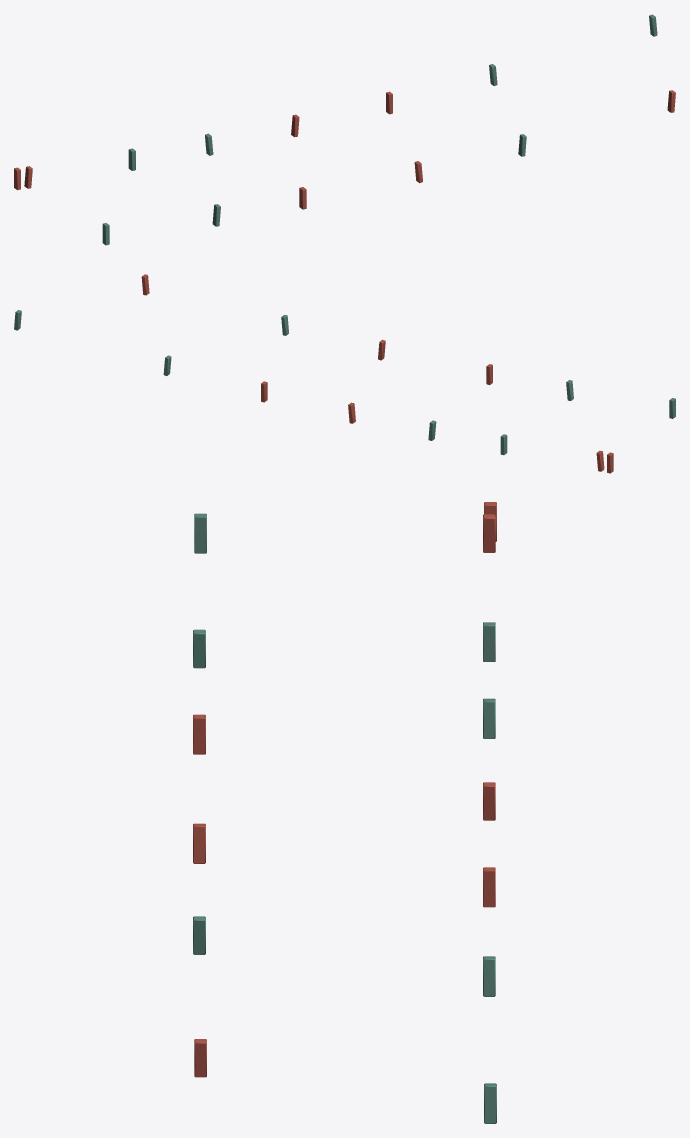
The model's file is KepPhoi.glb.
3 renders of one model, top to bottom at view 1: azimuth 30°, elevation 25°; view 2: azimuth 150°, elevation 25°; view 3: azimuth 270°, elevation 25°, orthographic. The views are drawn at different scales.
Visible parts, largest first — view 1: KepPhoi; view 2: KepPhoi; view 3: KepPhoi.
Part boxes in pixels (<box>): KepPhoi: <box>14,14,675,245</box>; KepPhoi: <box>14,274,675,473</box>; KepPhoi: <box>193,502,496,1123</box>.
Bounding box in the file's own units: 2.38 × 0.1232 × 0.524.
